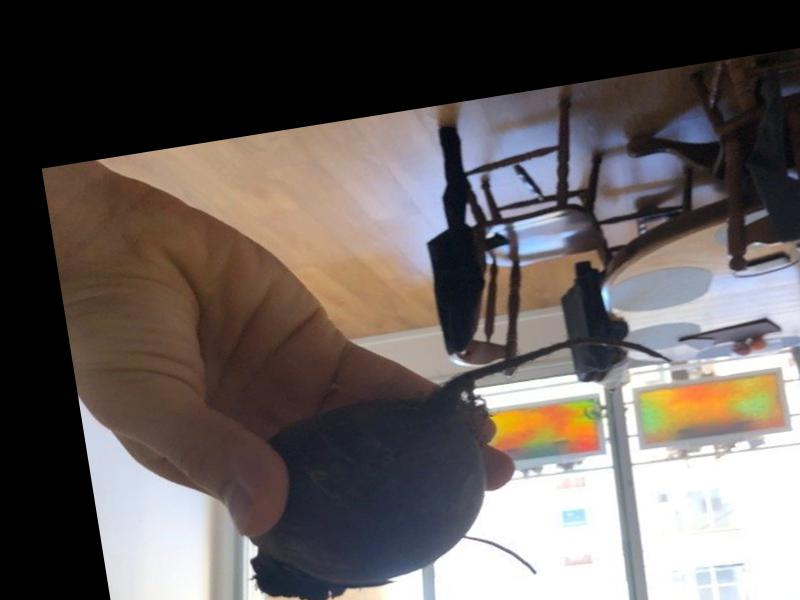Beet: (225, 325, 700, 600)
